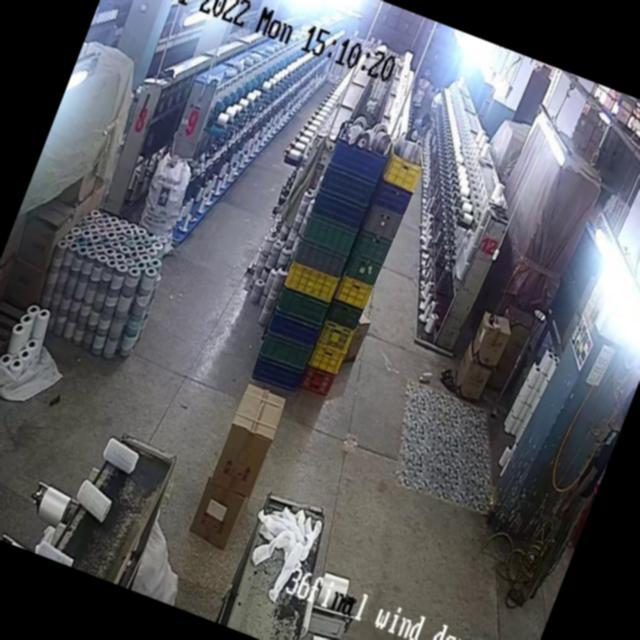person: (403, 65, 438, 125), (414, 116, 438, 158), (410, 110, 432, 141)
